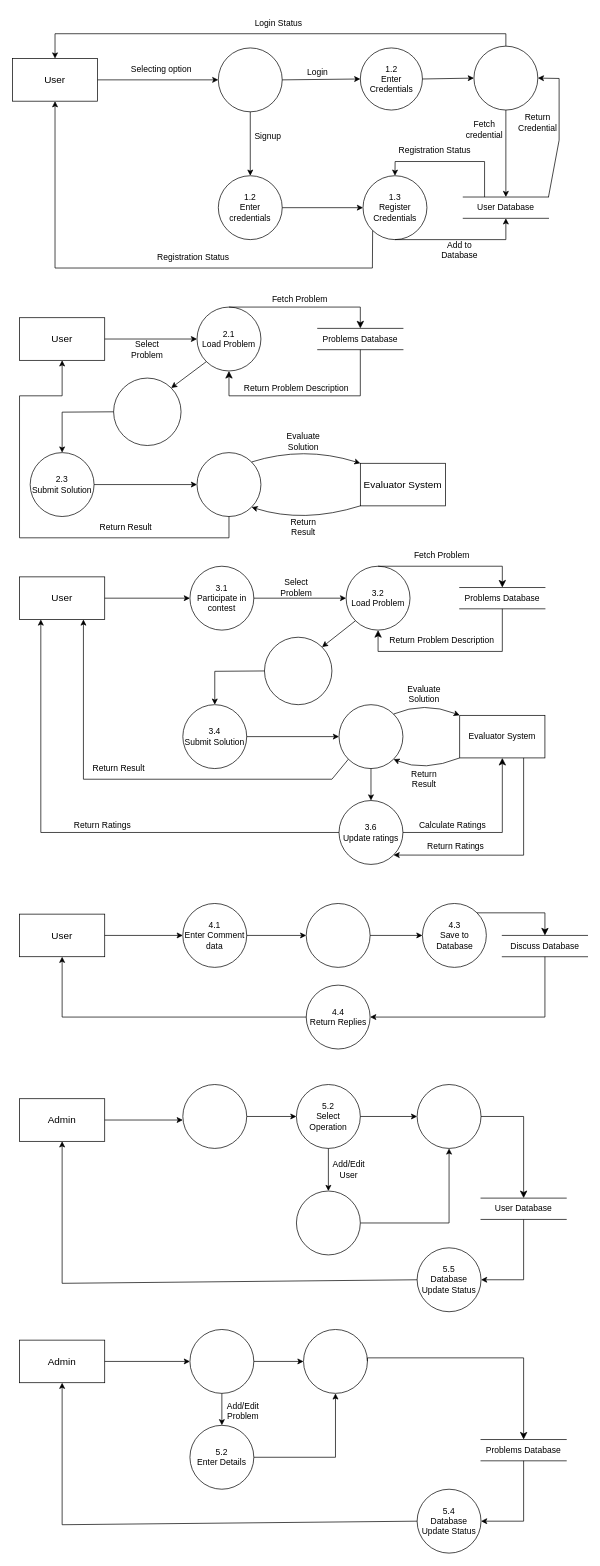
Image size: 600x1566. Some labels were removed from this diagram. Here are the shapes that lost their labels. From the top down, the centre of each, then its label:
point 250,79: 1.1 Login/Signup
point 505,77: 1.3 Match Credentials
point 147,411: 2.2 Write Solution
point 228,484: 2.4 Check Solution
point 298,671: 3.3 Write Solution
point 370,736: 3.5 Check Solution
point 338,935: 4.2 Post Comment
point 214,1116: 5.1 Select User
point 448,1116: 5.4 Update Database
point 328,1222: 5.3 Enter Details
point 221,1361: 5.1 Select Operation
point 335,1361: 5.3 Update Database
